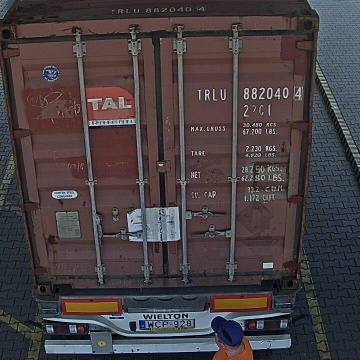serial_id: (197, 87, 302, 100)
